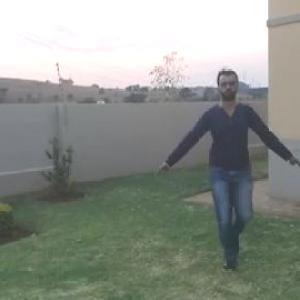land: (156, 78, 292, 252)
